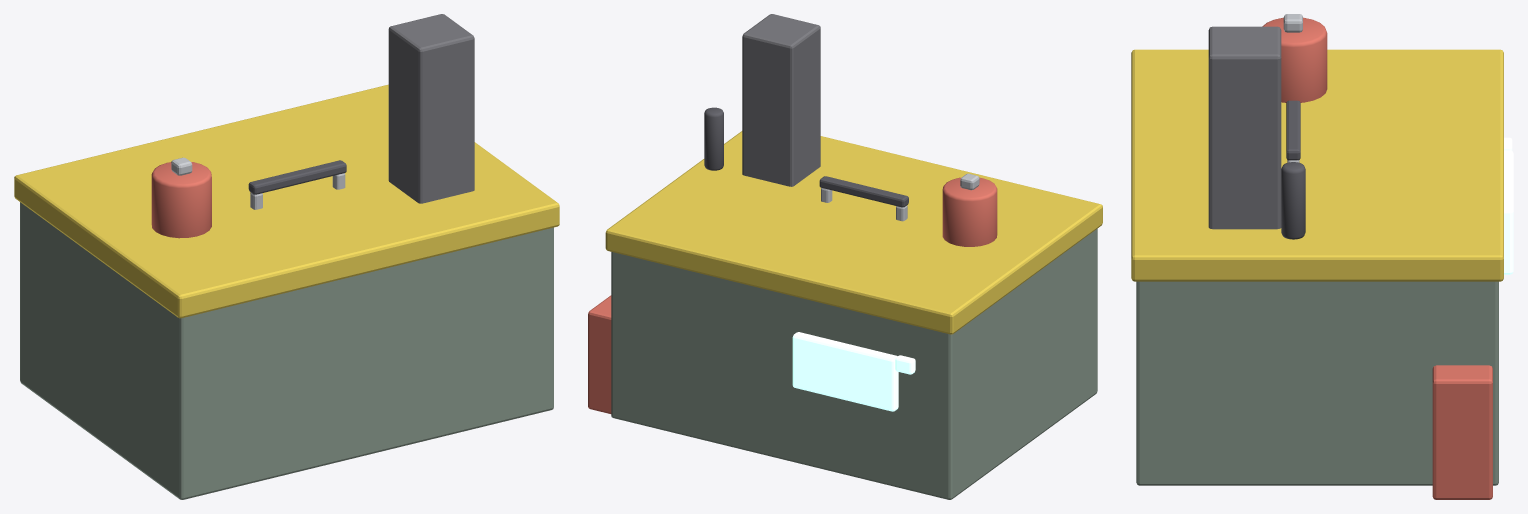
The model's file is генератор.glb.
3 renders of one model, left to right at view 1: azimuth 30°, elevation 25°; view 2: azimuth 150°, elevation 25°; view 3: azimuth 270°, elevation 25°, orthographic. The views are drawn at different scales.
Parts seen in each view (by area): view 1: генератор; view 2: генератор; view 3: генератор.
Part boxes in pixels (box(x1,y1,x2,y2)): генератор: box(14, 14, 559, 499); генератор: box(588, 14, 1102, 499); генератор: box(1131, 14, 1513, 499).
Bounding box in the file's own units: 2.17 × 1.85 × 1.58.
